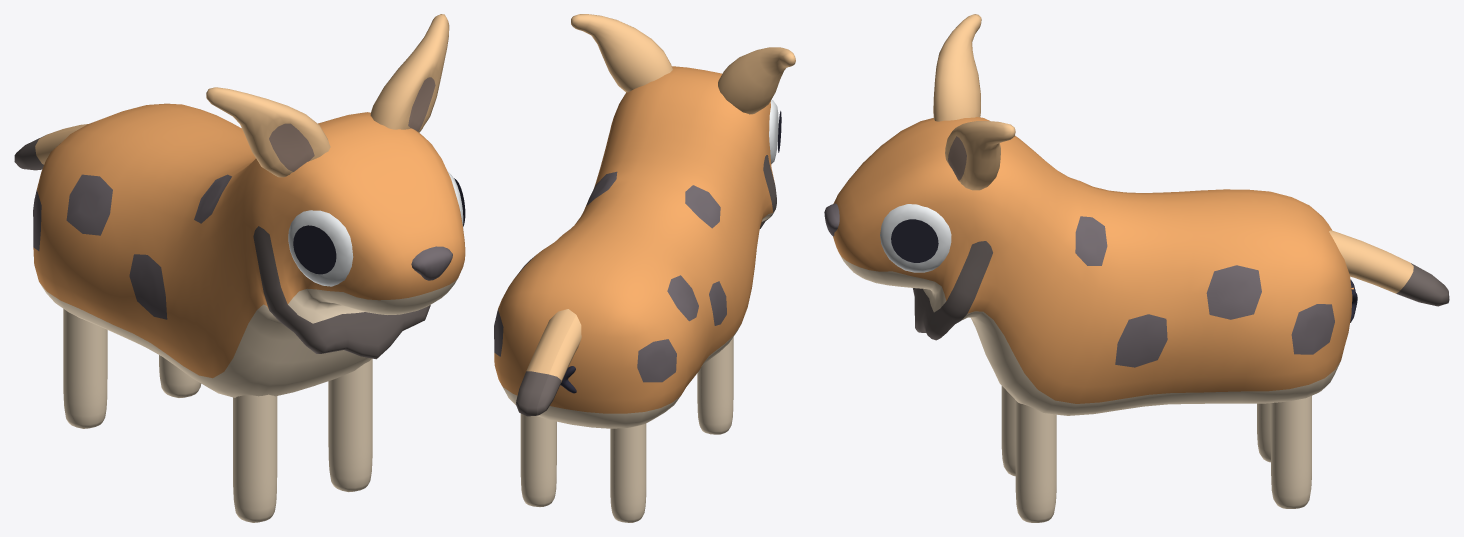
The model's file is Lynx.glb.
The picture shows the model from 3 angles, left to right: view 1: azimuth 30°, elevation 25°; view 2: azimuth 150°, elevation 25°; view 3: azimuth 270°, elevation 25°; orthographic projection. The views are drawn at different scales.
Visible parts, largest first — view 1: Lynx; view 2: Lynx; view 3: Lynx.
Boxes of the visible parts, x1,y1,x2,y2 form: Lynx: [14, 14, 465, 522]; Lynx: [494, 14, 795, 522]; Lynx: [824, 14, 1449, 522].
Bounding box in the file's own units: 1.28 × 2.11 × 2.79.
Materials: 1 (1 with a texture image).
